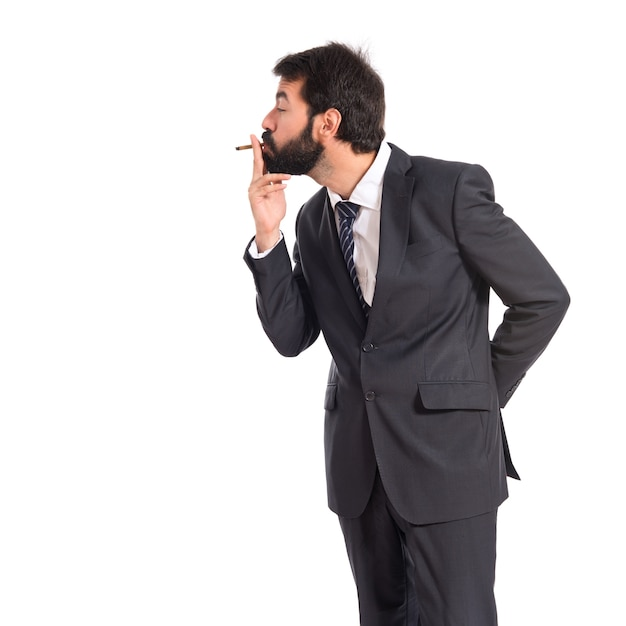cigarette: (233, 140, 267, 152)
